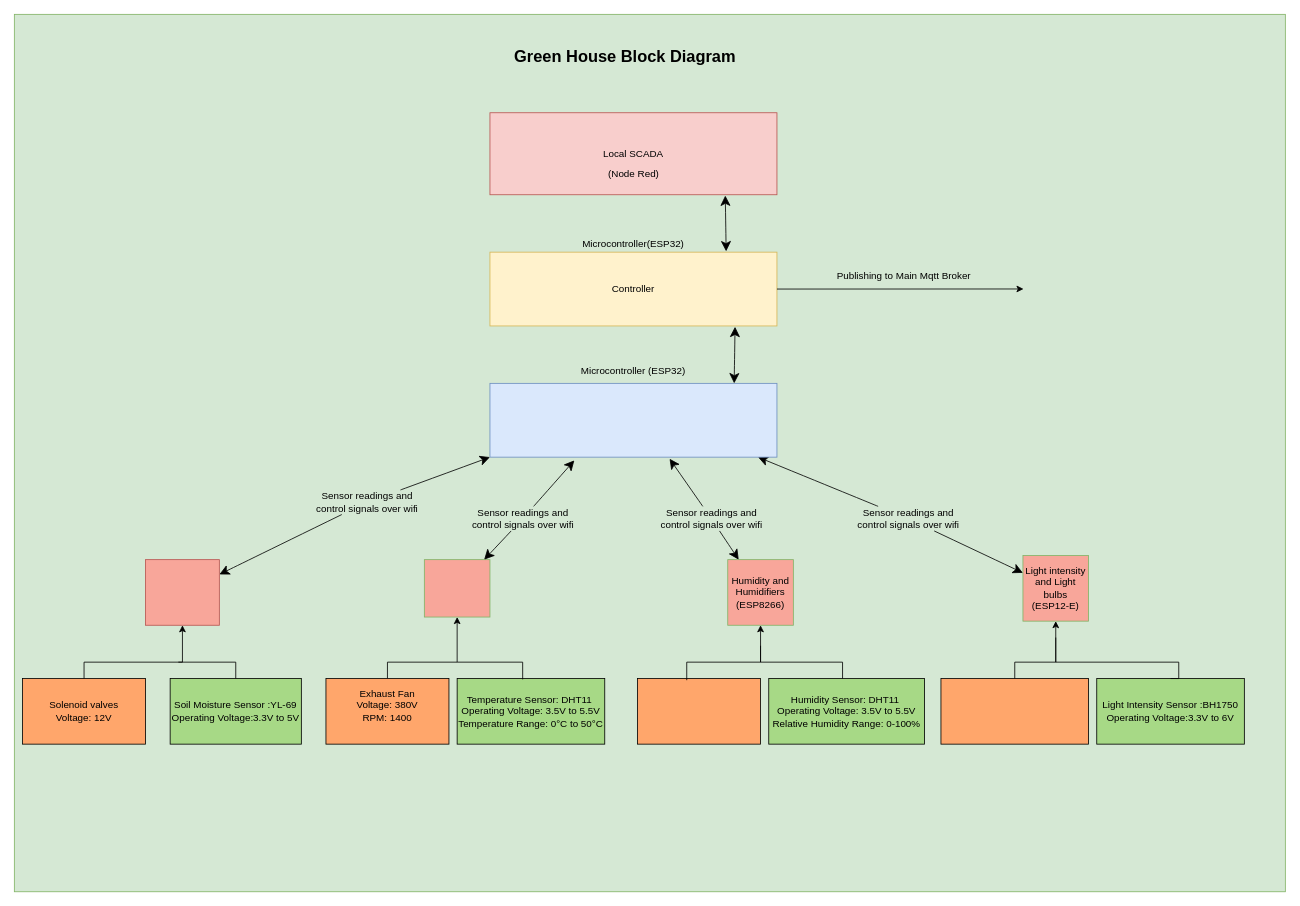
Image size: 1300x906. Some labels were removed from this diagram. Each missing label, with the centre of its shape:
Air flow and Temperature (ESP8266): (457,588)
Communication: (633,420)
Humidifier Voltage: 240V: (699,711)
LED Panel: (1014,711)
Water and Fertilizer Mixing and Distribution (ESP8266): (182,592)
